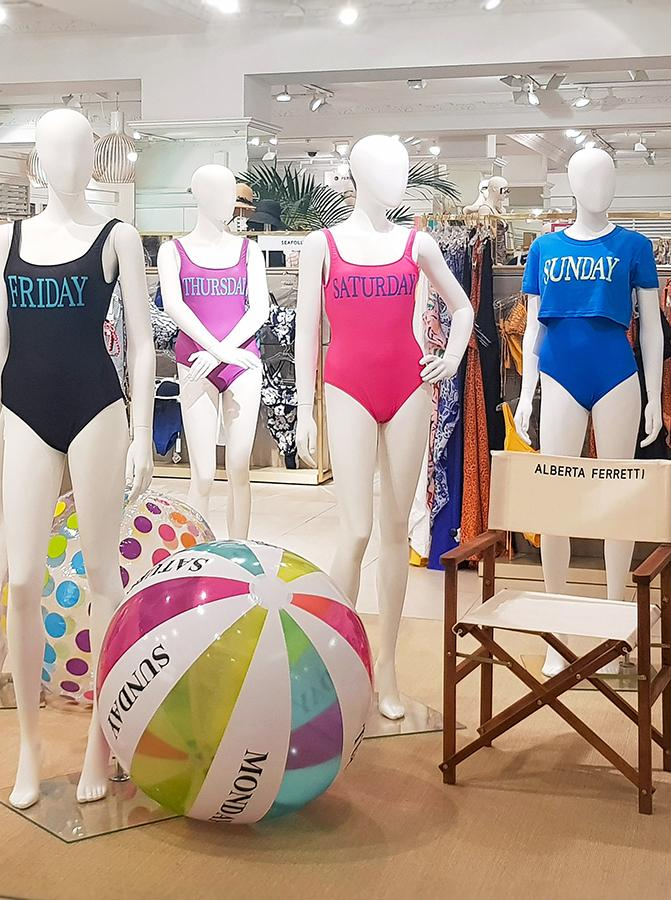person-like: (280, 124, 484, 724), (5, 102, 166, 820), (503, 147, 669, 681), (153, 158, 278, 550)
